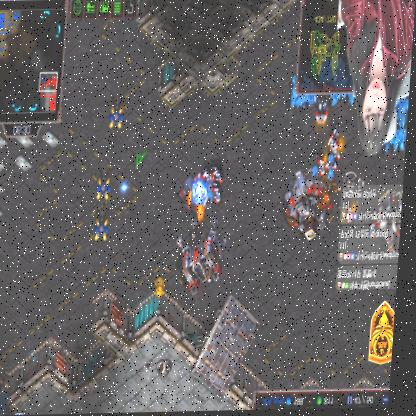streamer: (331, 0, 415, 161)
